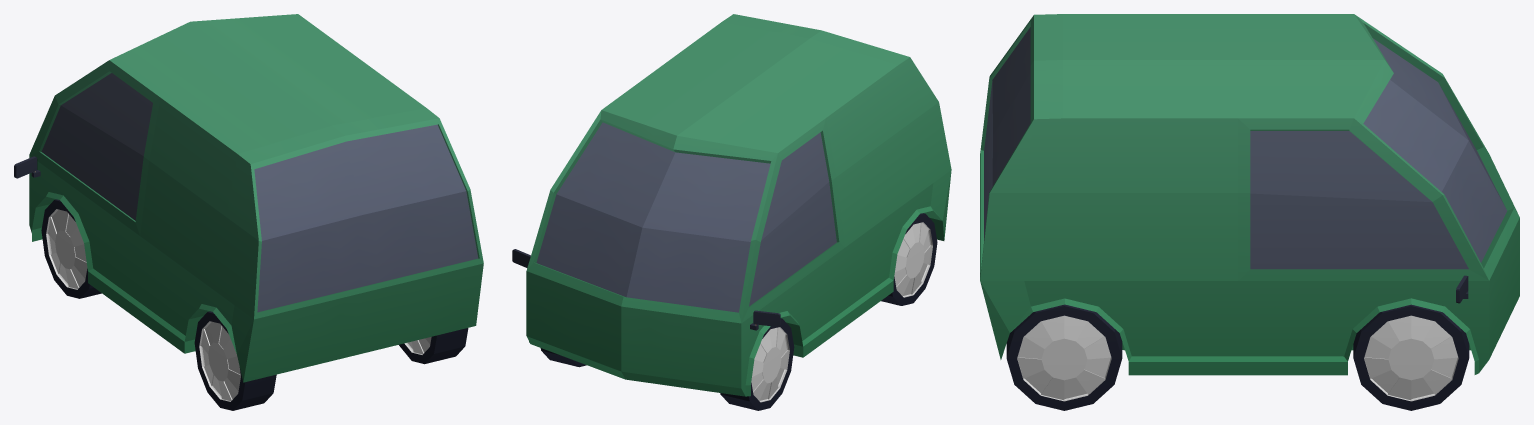
The model's file is angkot Ijo.fbx.
3 views of the same model, side by side, from view 1: azimuth 30°, elevation 25°; view 2: azimuth 150°, elevation 25°; view 3: azimuth 270°, elevation 25° (orthographic). The views are drawn at different scales.
Parts seen in each view (by area): view 1: angkot Ijo; view 2: angkot Ijo; view 3: angkot Ijo.
Boxes of the visible parts, x1=… form: angkot Ijo: x1=14, y1=14, x2=483, y2=410; angkot Ijo: x1=512, y1=14, x2=951, y2=410; angkot Ijo: x1=980, y1=14, x2=1519, y2=410.
Size of the model in its own units: 1.59 by 1.36 by 2.3.
